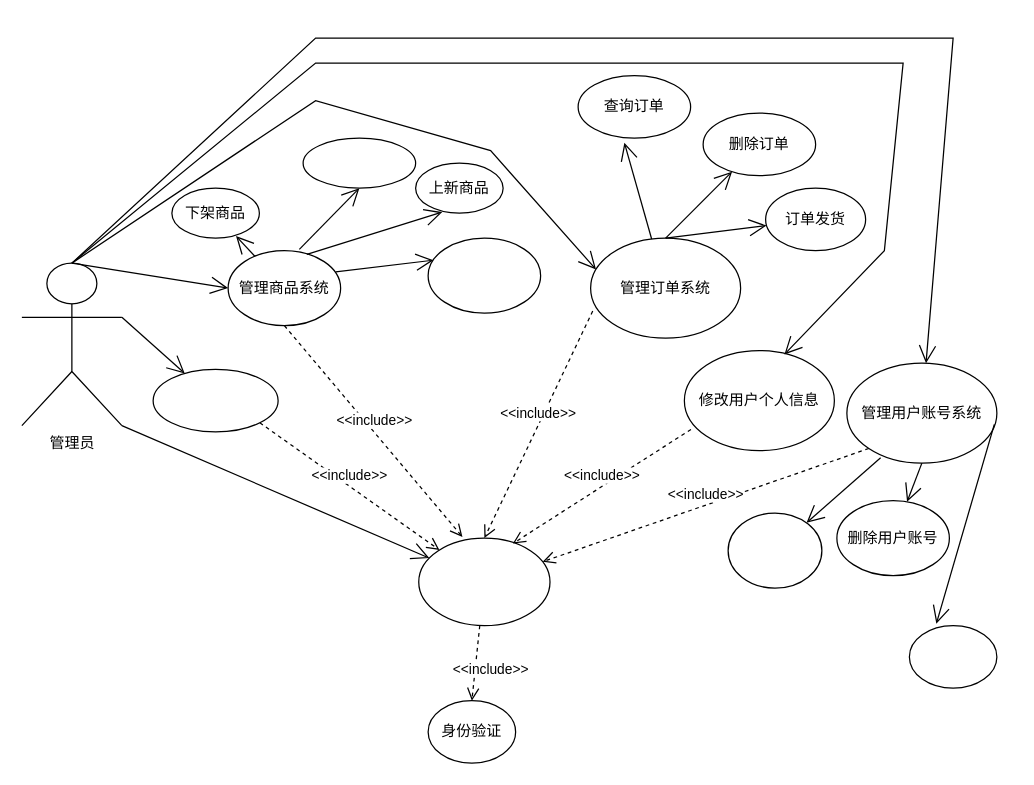
This 1034x785 diagram has some shape labels left out. Each missing label, with the centre of its shape:
"修改现有商品" goes at pixel 484 275.
"修改用户账号" goes at pixel 774 550.
"搜索用户" goes at pixel 952 656.
"查看管理员日志" goes at pixel 215 400.
"查询商品" goes at pixel 359 162.
"登陆系统" goes at pixel 484 581.
